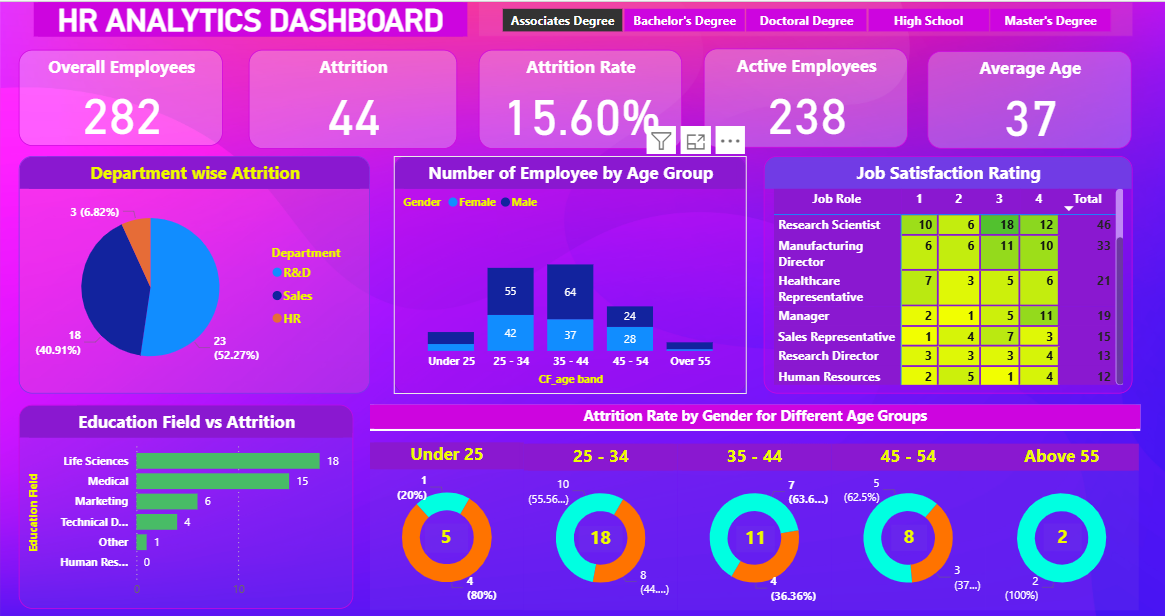

The dashboard page shown, as its layout file describes it:
{"tool":"powerbi","page":{"name":"Page 1","canvas":[1280,720],"ordinal":0},"visuals":[{"type":"card","title":"Overall Employees","fields":{"Values":["Sum(HR data.Employee Count)"]},"box":[20,97.1,224.3,105.7],"z":0},{"type":"card","title":"Attrition","fields":{"Values":["Sum(HR data.Attrition Count)"]},"box":[272.9,97.1,228.6,108.6],"z":1000},{"type":"card","title":"Attrition Rate","fields":{"Values":["HR data.Attrition Rate"]},"box":[525.7,97.1,222.9,108.6],"z":2000},{"type":"card","title":"Active Employees","fields":{"Values":["HR data.Active Employees"]},"box":[772.9,95.7,224.3,108.6],"z":3000},{"type":"card","title":"Average Age","fields":{"Values":["Avg(HR data.Age)"]},"box":[1018.6,98.6,224.3,107.1],"z":4000},{"type":"pieChart","title":"Department wise Attrition ","fields":{"Category":["HR data.Department"],"Y":["Sum(HR data.Attrition Count)"]},"box":[20.6,214.1,385.6,260.7],"z":5000},{"type":"columnChart","title":"Number of Employee by Age Group","fields":{"Category":["HR data.CF_age band"],"Y":["Sum(HR data.Employee Count)"],"Series":["HR data.Gender"]},"box":[432.2,214.1,387,260.7],"z":6000},{"type":"pivotTable","title":"Job Satisfaction Rating","fields":{"Rows":["HR data.Job Role"],"Columns":["HR data.Job Satisfaction"],"Values":["Sum(HR data.Employee Count)"]},"box":[838.4,214.1,404.8,260.7],"z":7000},{"type":"barChart","title":"Education Field vs Attrition","fields":{"Category":["HR data.Education Field"],"Y":["Sum(HR data.Attrition Count)"]},"box":[20.6,486.8,367.2,224.2],"z":8000},{"type":"donutChart","title":"Under 25","fields":{"Category":["HR data.Gender"],"Y":["Sum(HR data.Attrition Count)"],"Series":["HR data.CF_age band"]},"box":[405.7,528.1,169,184.3],"z":9000},{"type":"textbox","title":"Attrition Rate by Gender for Different Age Groups","box":[405.7,486.8,845.7,28.9],"z":10000},{"type":"donutChart","title":"25 - 34","fields":{"Category":["HR data.Gender"],"Y":["Sum(HR data.Attrition Count)"],"Series":["HR data.CF_age band"]},"box":[574.8,529.4,169.1,182.9],"z":11000},{"type":"donutChart","title":"35 - 44","fields":{"Category":["HR data.Gender"],"Y":["Sum(HR data.Attrition Count)"],"Series":["HR data.CF_age band"]},"box":[744,529.4,169.1,182.9],"z":12000},{"type":"donutChart","title":"45 - 54","fields":{"Category":["HR data.Gender"],"Y":["Sum(HR data.Attrition Count)"],"Series":["HR data.CF_age band"]},"box":[913.1,529.4,169.1,182.9],"z":13000},{"type":"donutChart","title":"Above 55","fields":{"Category":["HR data.Gender"],"Y":["Sum(HR data.Attrition Count)"],"Series":["HR data.CF_age band"]},"box":[1081.4,530,168.6,182.9],"z":14000},{"type":"card","fields":{"Values":["Sum(HR data.Attrition Count)"]},"box":[466.4,616.8,47.3,31.8],"z":14001},{"type":"card","fields":{"Values":["Sum(HR data.Attrition Count)"]},"box":[635.5,620,48.2,28.6],"z":14002},{"type":"card","fields":{"Values":["Sum(HR data.Attrition Count)"]},"box":[807.7,620,42.7,28.6],"z":14003},{"type":"card","fields":{"Values":["Sum(HR data.Attrition Count)"]},"box":[978.2,618.6,39.1,28.6],"z":14004},{"type":"card","fields":{"Values":["Sum(HR data.Attrition Count)"]},"box":[1145.9,616.8,41.8,30.5],"z":14005},{"type":"textbox","title":"HR ANALYTICS DASHBOARD","box":[36.9,45.4,476.2,37.7],"z":14006},{"type":"slicer","fields":{"Values":["HR data.Education"]},"box":[525.4,45.4,717.7,36.9],"z":14007}]}

Visuals, with their boxes on the page's 1280x720 design canvas (x1, y1, x2, y2). These are canvas units, not pixel positions in the 1165x616 screenshot, which may show the page scaled, cropped or inside an application window:
"Overall Employees" card: <region>20, 97, 244, 203</region>
"Attrition" card: <region>273, 97, 502, 206</region>
"Attrition Rate" card: <region>526, 97, 749, 206</region>
"Active Employees" card: <region>773, 96, 997, 204</region>
"Average Age" card: <region>1019, 99, 1243, 206</region>
"Department wise Attrition " pieChart: <region>21, 214, 406, 475</region>
"Number of Employee by Age Group" columnChart: <region>432, 214, 819, 475</region>
"Job Satisfaction Rating" pivotTable: <region>838, 214, 1243, 475</region>
"Education Field vs Attrition" barChart: <region>21, 487, 388, 711</region>
"Under 25" donutChart: <region>406, 528, 575, 712</region>
"Attrition Rate by Gender for Different Age Groups" textbox: <region>406, 487, 1251, 516</region>
"25 - 34" donutChart: <region>575, 529, 744, 712</region>
"35 - 44" donutChart: <region>744, 529, 913, 712</region>
"45 - 54" donutChart: <region>913, 529, 1082, 712</region>
"Above 55" donutChart: <region>1081, 530, 1250, 713</region>
card - Sum(HR data.Attrition Count): <region>466, 617, 514, 649</region>
card - Sum(HR data.Attrition Count): <region>636, 620, 684, 649</region>
card - Sum(HR data.Attrition Count): <region>808, 620, 850, 649</region>
card - Sum(HR data.Attrition Count): <region>978, 619, 1017, 647</region>
card - Sum(HR data.Attrition Count): <region>1146, 617, 1188, 647</region>
"HR ANALYTICS DASHBOARD" textbox: <region>37, 45, 513, 83</region>
slicer - HR data.Education: <region>525, 45, 1243, 82</region>
